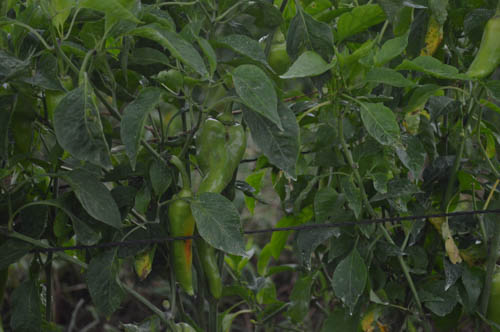ChiliPepper: (202, 127, 251, 200), (168, 192, 194, 294), (198, 229, 222, 295), (196, 120, 223, 168)
